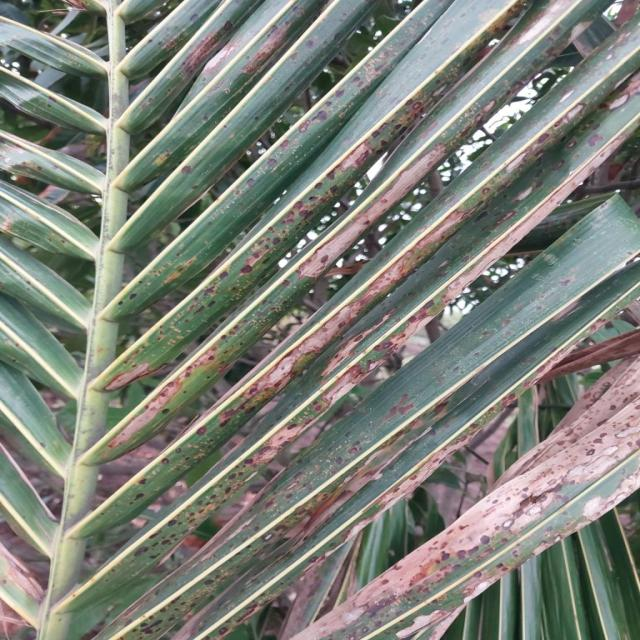gray leaf spot: (77, 12, 631, 637), (286, 348, 635, 640)
